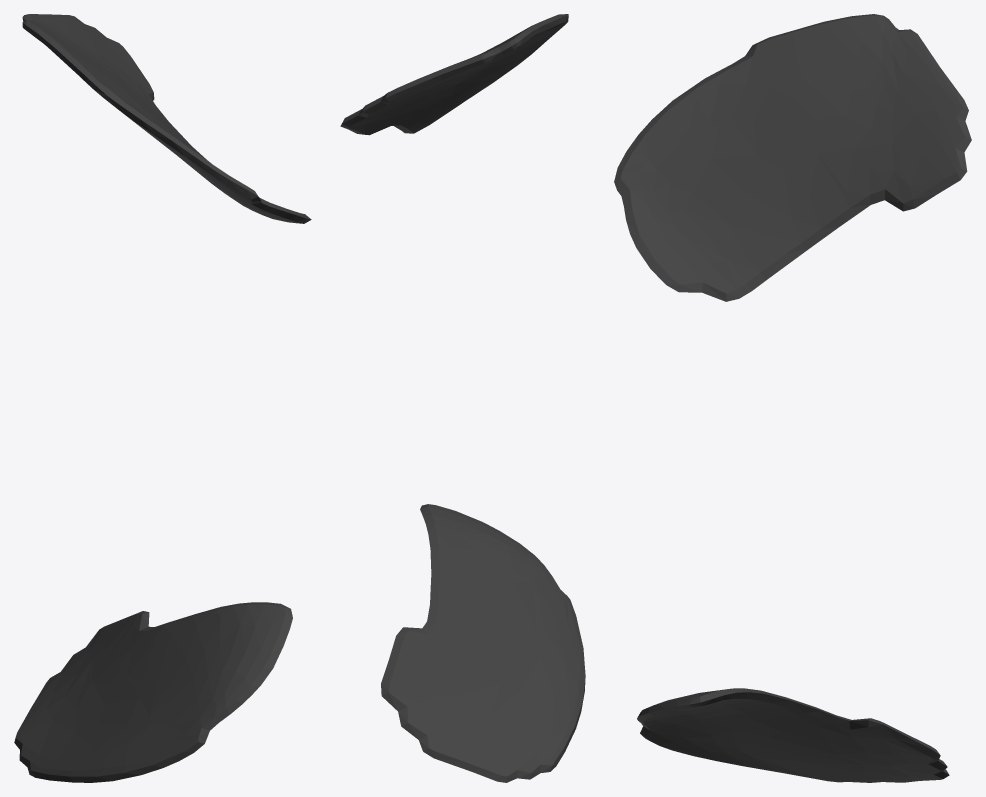
File: Pelvis_iliac_surface.glb
3 views of the same model, side by side, from view 1: azimuth 30°, elevation 25°; view 2: azimuth 150°, elevation 25°; view 3: azimuth 270°, elevation 25° (orthographic). The views are drawn at different scales.
Visible parts, largest first — view 1: Pelvis_iliac_surface; view 2: Pelvis_iliac_surface; view 3: Pelvis_iliac_surface.
Boxes of the visible parts, x1,y1,x2,y2 form: Pelvis_iliac_surface: (14, 14, 311, 782); Pelvis_iliac_surface: (340, 14, 585, 782); Pelvis_iliac_surface: (614, 14, 971, 782).
Size of the model in its own units: 1.25 by 4.34 by 1.82.
1 material, 1 textured.
